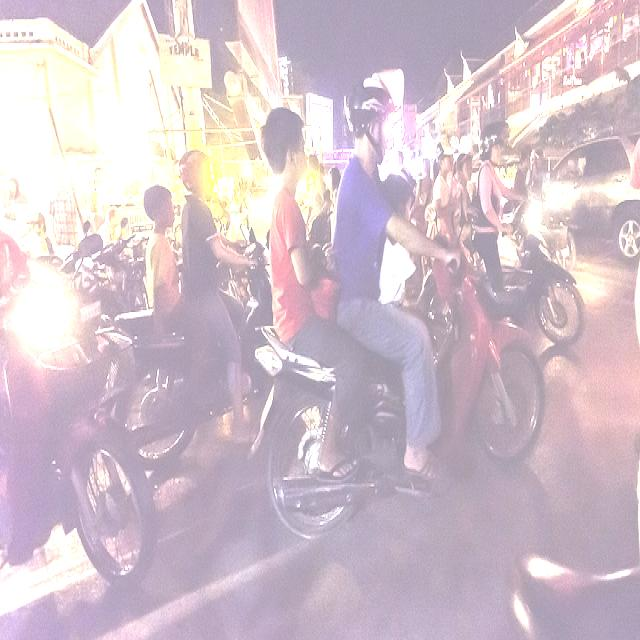Motorbike: (246, 207, 545, 536)
